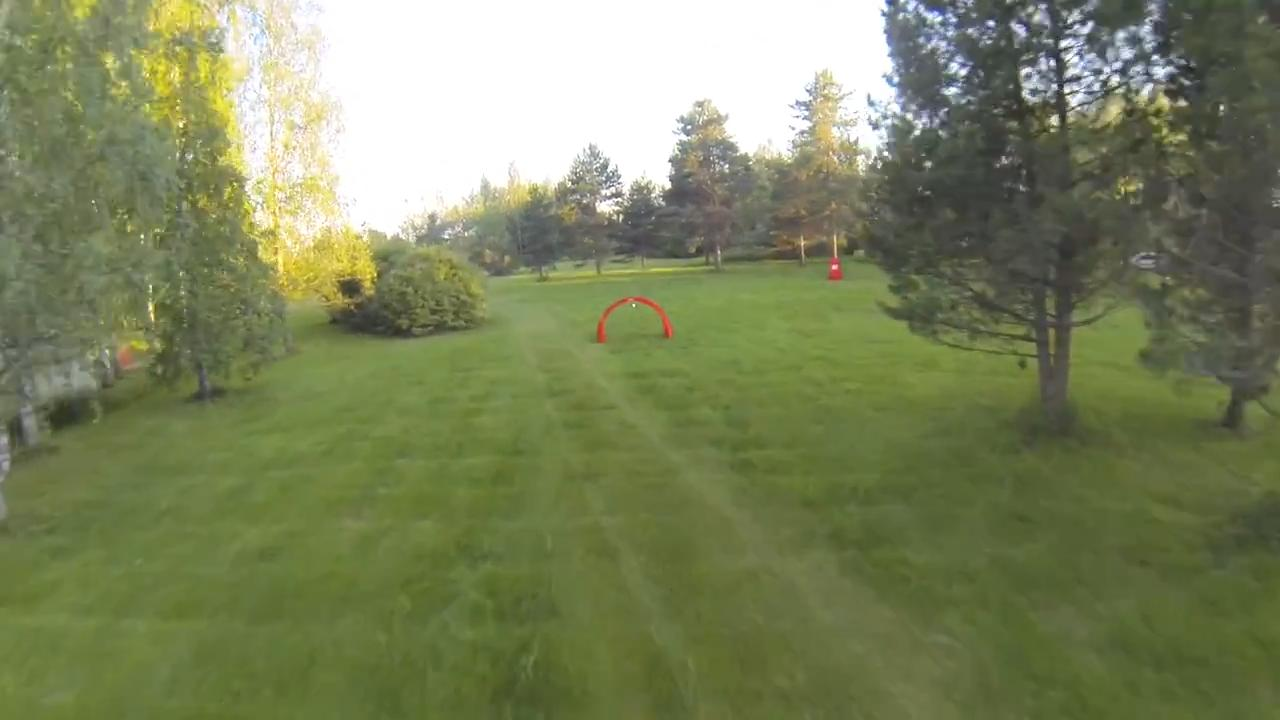gate: (592, 292, 675, 348)
